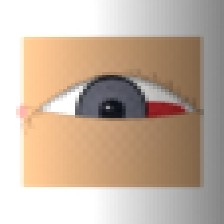hemorrhage_spot: (100, 73, 201, 154)
